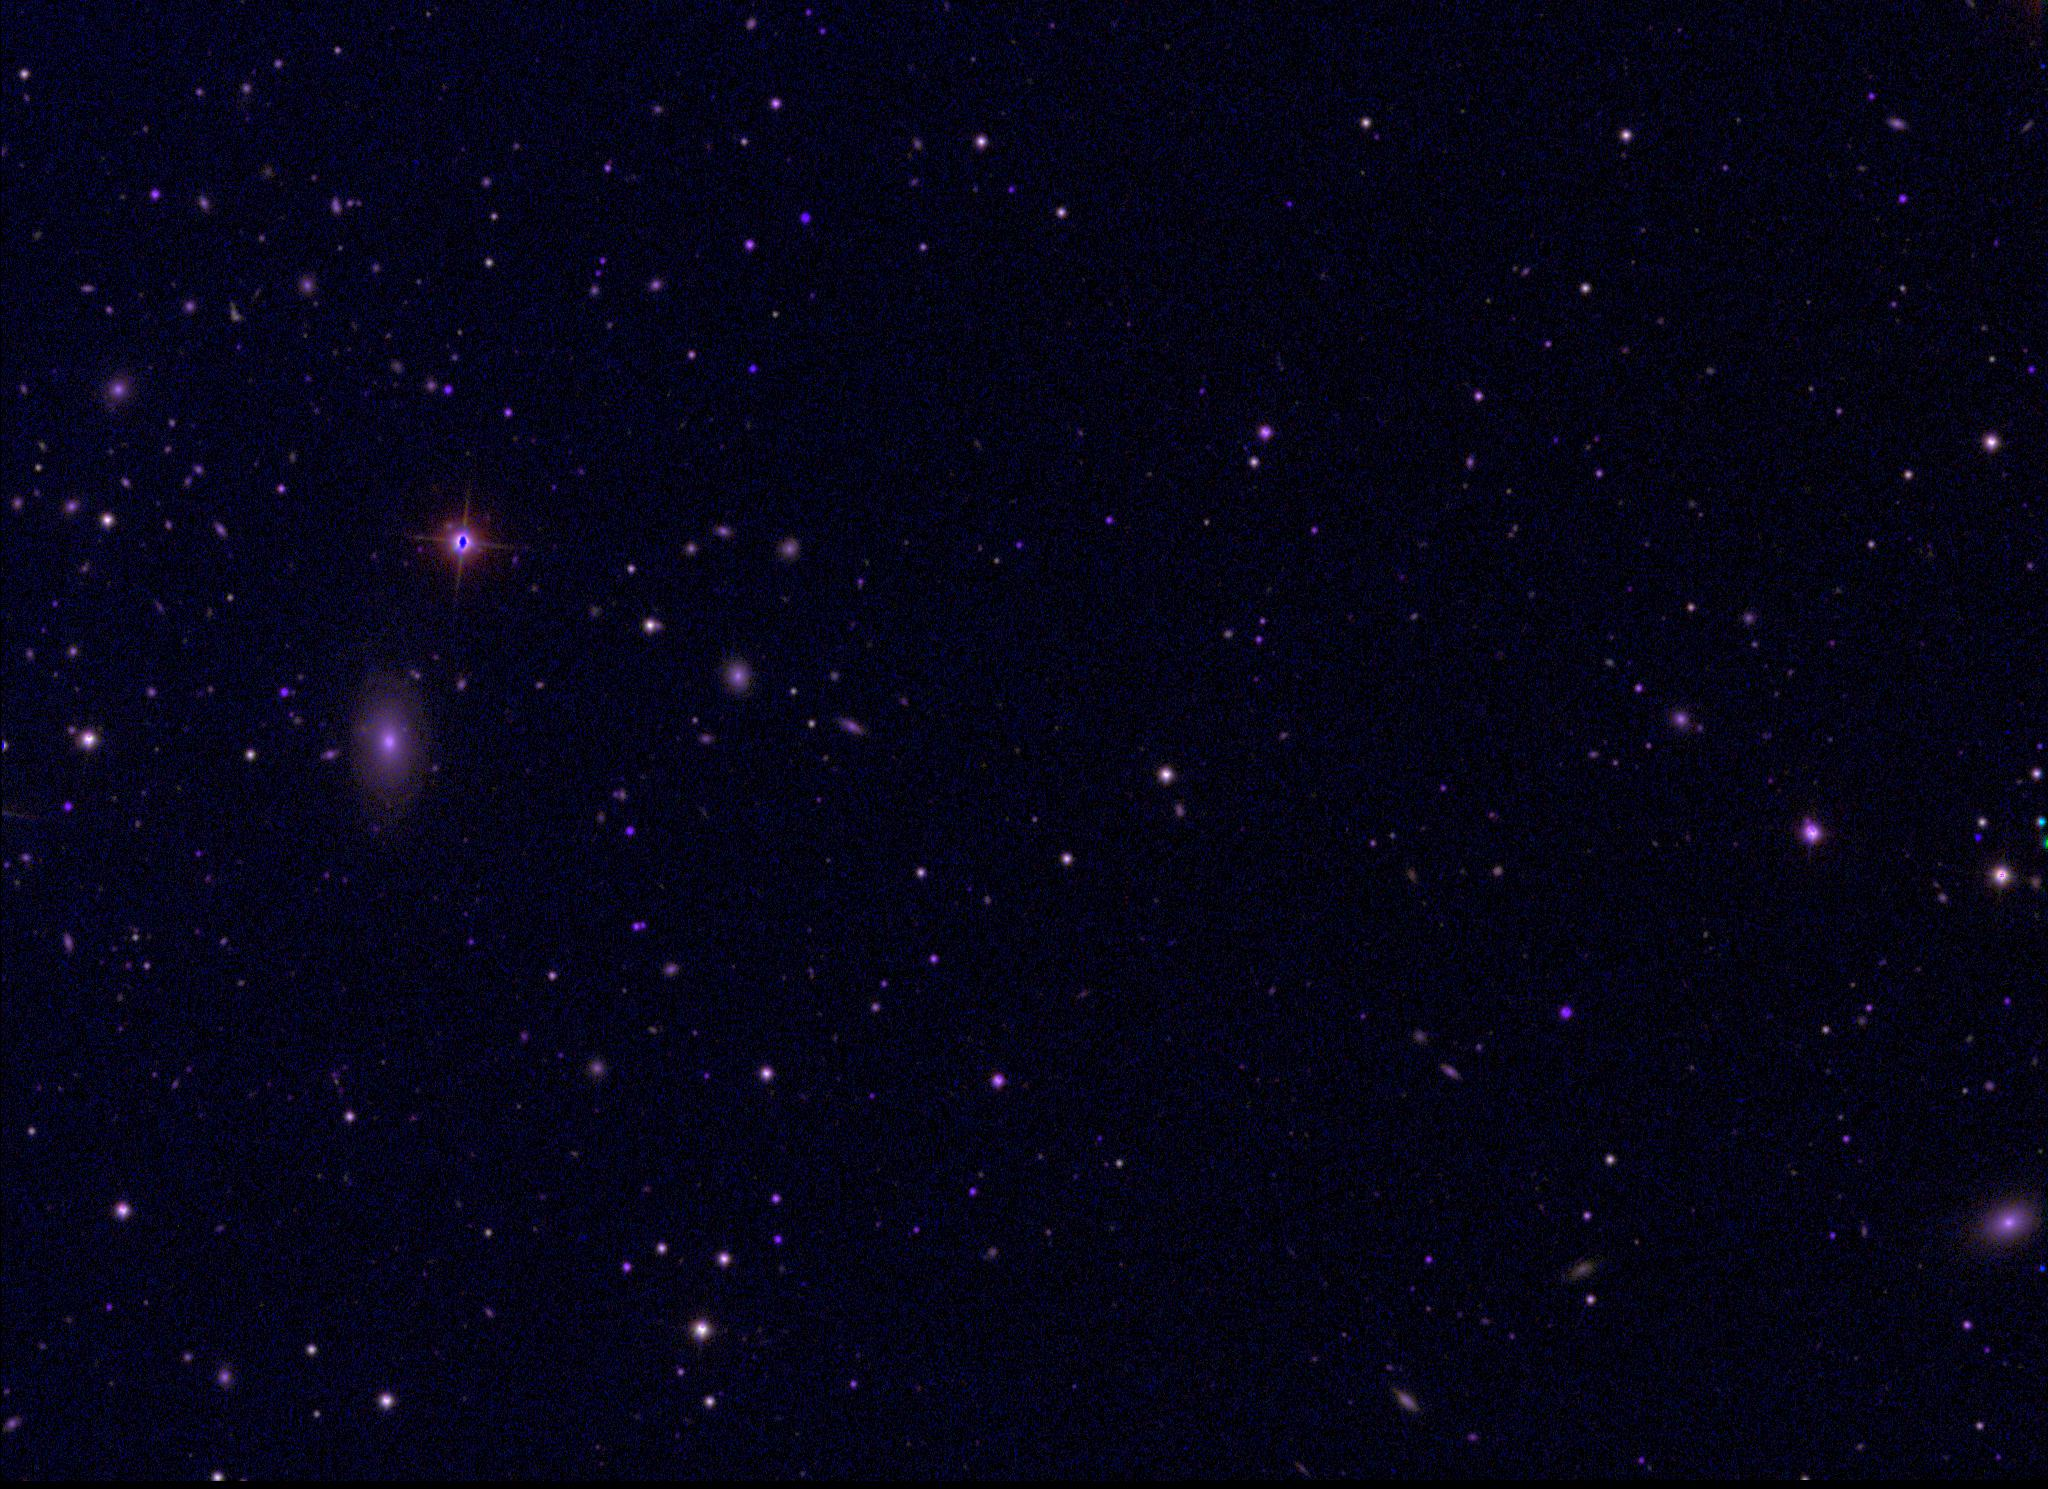L: (1972, 830, 1984, 845)
